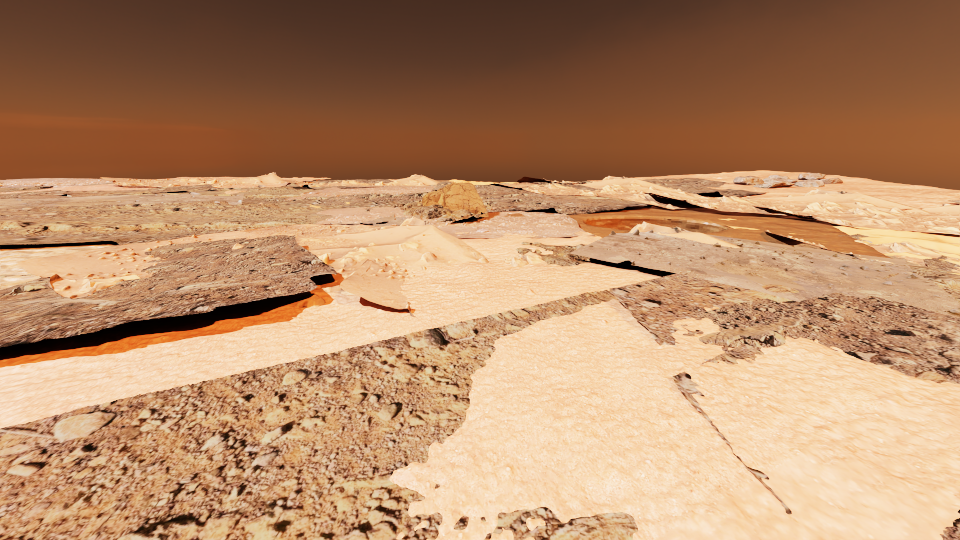bedrock: (516, 229, 959, 383), (0, 235, 337, 347), (49, 487, 442, 539), (281, 181, 646, 233), (0, 211, 308, 235), (0, 190, 320, 208), (484, 507, 637, 539), (643, 178, 765, 196), (0, 180, 113, 191), (150, 184, 218, 190), (940, 518, 959, 539), (0, 531, 49, 539), (557, 183, 601, 190), (454, 515, 468, 530), (310, 180, 342, 184), (355, 179, 393, 182)
hole: (583, 216, 728, 232)
rocks: (422, 182, 486, 213), (733, 172, 842, 187)
sand: (390, 299, 959, 539), (0, 232, 662, 427), (636, 170, 959, 208), (0, 241, 118, 289), (826, 222, 959, 259), (0, 184, 158, 193), (680, 208, 802, 218), (884, 252, 930, 258), (170, 177, 249, 180), (435, 180, 493, 184), (526, 518, 544, 530), (282, 177, 330, 181), (214, 184, 258, 187), (264, 181, 290, 186), (414, 520, 426, 530), (224, 190, 244, 193), (662, 271, 676, 275), (396, 532, 403, 538)
soil: (0, 274, 736, 539), (0, 184, 436, 296), (501, 178, 959, 272), (672, 371, 791, 514), (352, 254, 439, 283), (700, 343, 763, 364), (489, 209, 562, 220), (310, 273, 348, 293), (117, 178, 201, 186), (439, 227, 505, 237), (0, 178, 107, 183), (285, 295, 308, 307), (640, 223, 668, 232), (400, 299, 414, 316), (26, 201, 79, 204), (287, 180, 312, 186), (683, 328, 703, 335), (367, 250, 382, 259), (406, 217, 422, 225), (112, 180, 130, 186), (0, 185, 33, 187), (817, 190, 836, 193)
